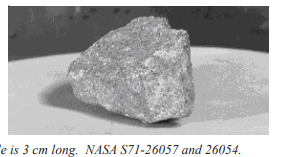Basalt: (45, 3, 212, 133)
